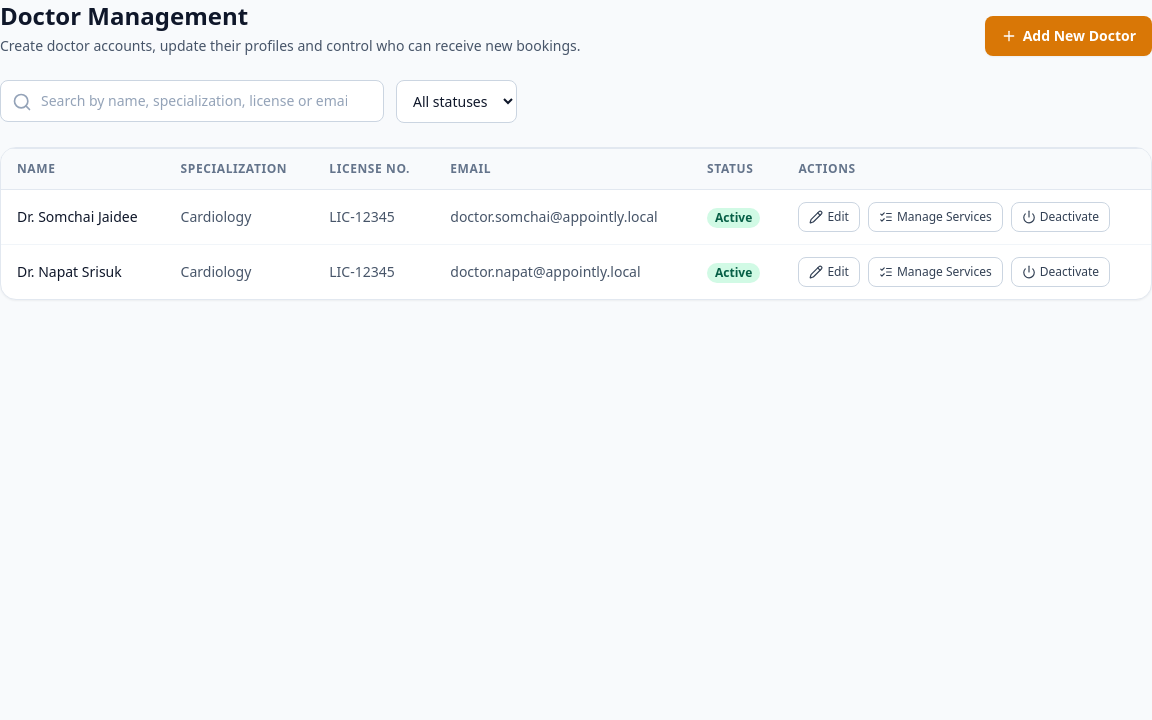
Scenario: Admin Doctor-Service Assignment (/admin/doctors → Manage Services) › unassigns a service immediately (DELETE), flips the row and shows a success alert
Expected: the table is shown, [1, 148, 1151, 299]
What coordinates should you click on to do the following:
click the button with aria-label "Manage services for Dr. Somchai Jaidee"
I would click on:
 (935, 217)
Its box is [868, 202, 1003, 232].
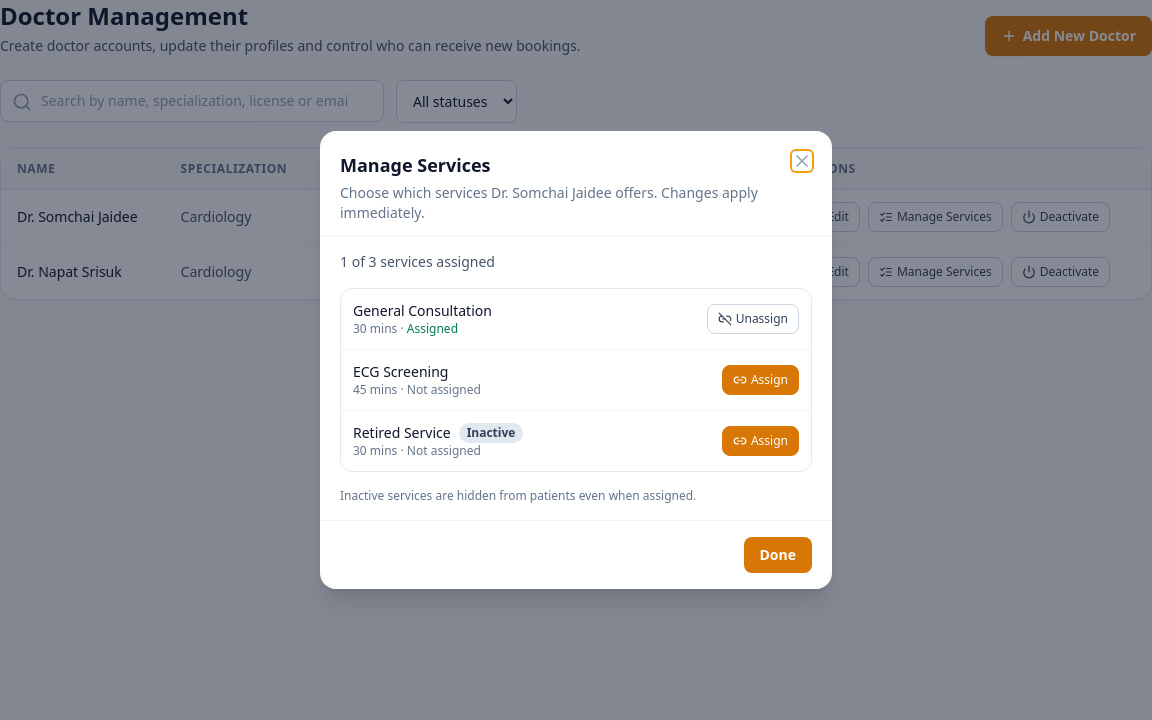
Now the list named "Clinic services" is shown, box [340, 288, 812, 472]
What coordinates should you click on to do the following:
click the button with aria-label "Unassign General Consultation"
I would click on:
 (753, 319)
Its box is [707, 304, 799, 334].
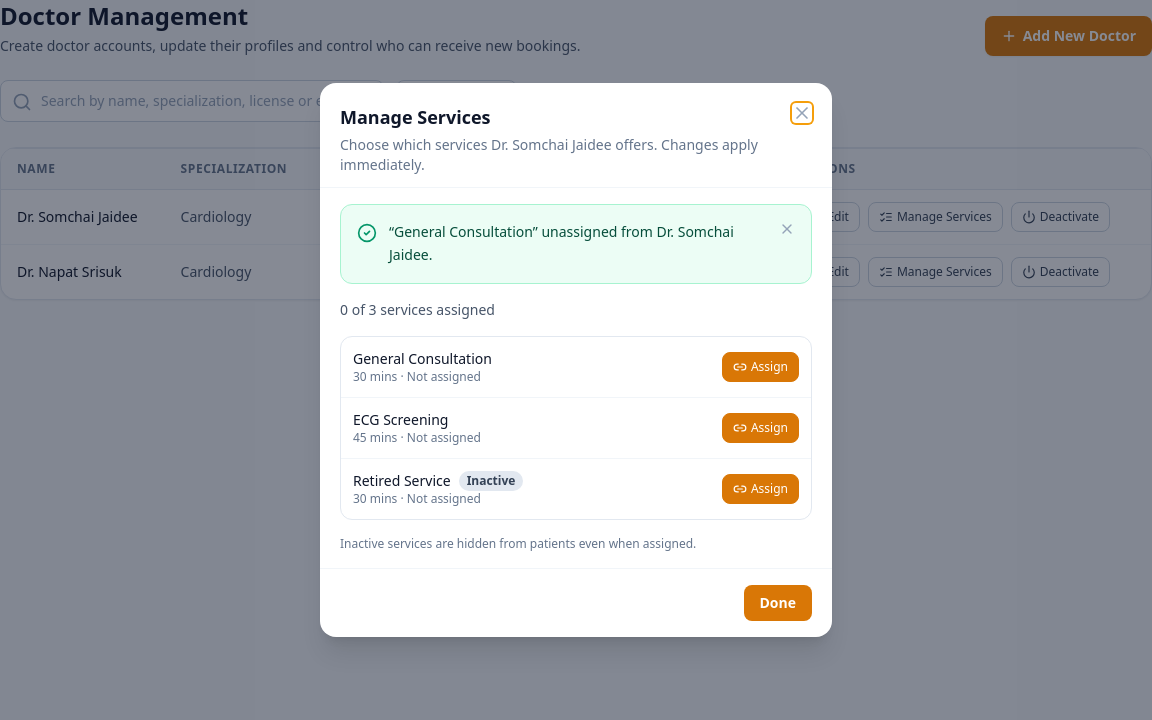
Now the button with aria-label "Assign General Consultation" is shown, box [722, 352, 799, 382]
Now the message shows "“General Consultation” unassigned from Dr. Somchai Jaidee", box [389, 222, 734, 264]
Now the text "0 of 3 services assigned" is shown, box [340, 300, 495, 319]
